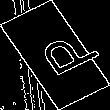P_SW: (17, 27, 93, 83)
